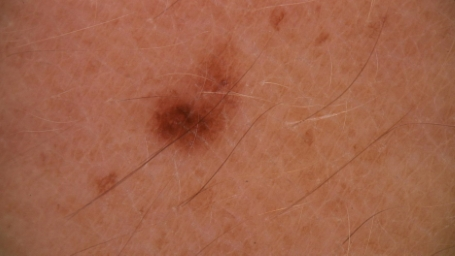melanoma: (154, 97, 216, 147)
